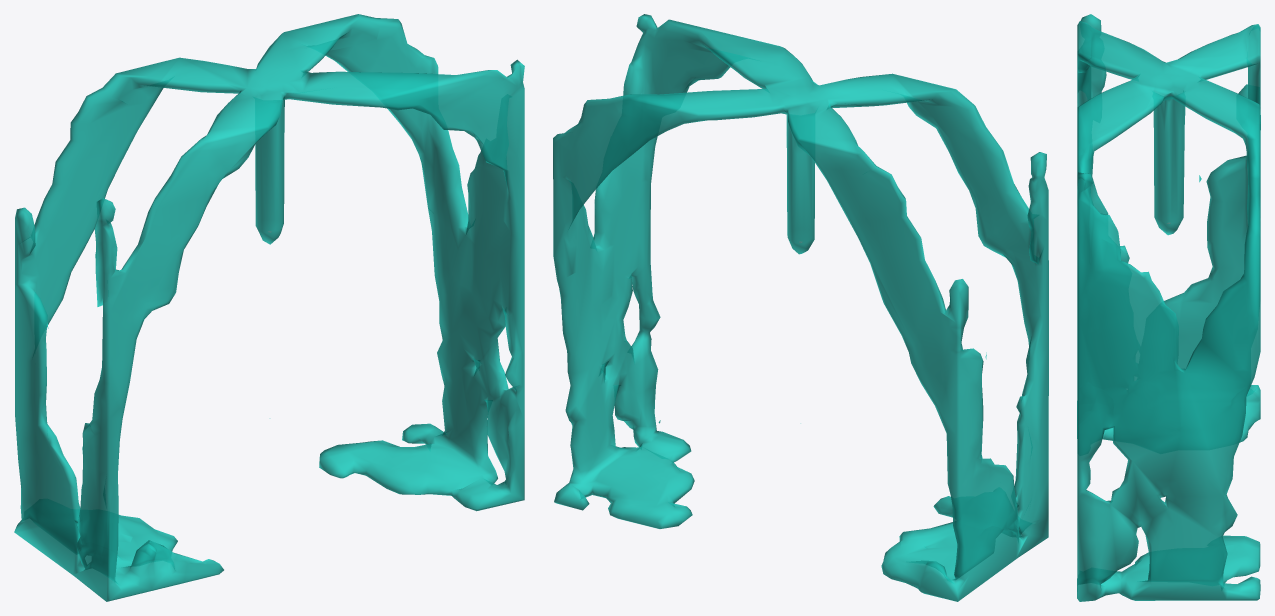
3 views of the same model, side by side, from view 1: azimuth 30°, elevation 25°; view 2: azimuth 150°, elevation 25°; view 3: azimuth 270°, elevation 25° (orthographic). The views are drawn at different scales.
Parts seen in each view (by area): view 1: Liquid_Domain; view 2: Liquid_Domain; view 3: Liquid_Domain.
Boxes of the visible parts, x1,y1,x2,y2 form: Liquid_Domain: [14, 14, 524, 601]; Liquid_Domain: [553, 14, 1048, 601]; Liquid_Domain: [1077, 14, 1260, 601].
Size of the model in its own units: 1965 by 1965 by 766.
